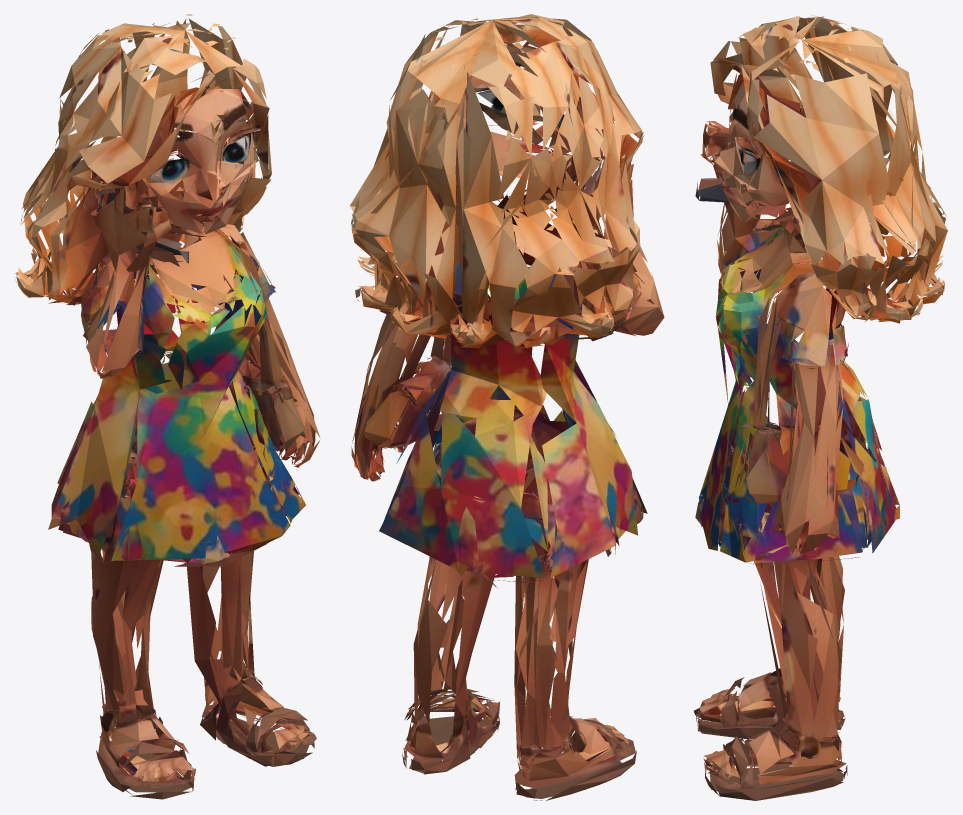
File: CenarioMulher.glb
3 renders of one model, left to right at view 1: azimuth 30°, elevation 25°; view 2: azimuth 150°, elevation 25°; view 3: azimuth 270°, elevation 25°, orthographic. The views are drawn at different scales.
Visible parts, largest first — view 1: out.obj; view 2: out.obj; view 3: out.obj.
Part boxes in pixels (x1,y1,x2,y2): out.obj: (14, 14, 320, 799); out.obj: (350, 14, 664, 800); out.obj: (694, 14, 947, 800).
Size of the model in its own units: 0.4048 by 1.01 by 0.323.
1 material, 1 textured.
